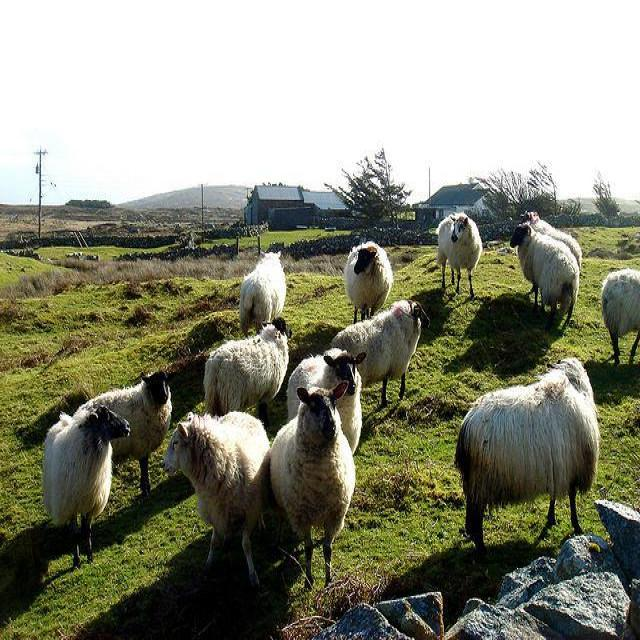Sheep: (455, 359, 598, 557), (270, 378, 358, 586), (163, 411, 272, 572), (40, 402, 131, 574), (60, 371, 177, 496), (332, 301, 431, 408), (204, 317, 293, 419), (286, 350, 367, 458), (509, 222, 580, 330), (599, 260, 639, 367), (239, 251, 288, 337), (346, 241, 395, 323), (522, 208, 584, 271), (437, 212, 482, 297)
